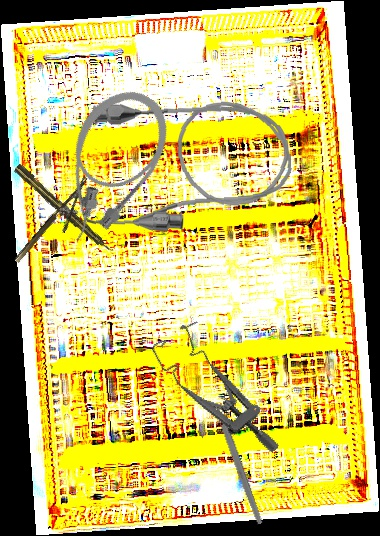Cannula: (78, 91, 296, 238), (30, 75, 185, 256)
Handpiece: (12, 162, 116, 257)
Needle Holder: (12, 176, 102, 273)
Scalpel Handle: (213, 402, 264, 526)
Speculum: (148, 311, 282, 480)
